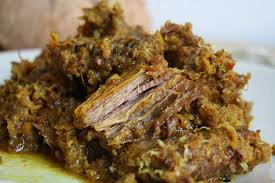rendang: (2, 1, 272, 182)
